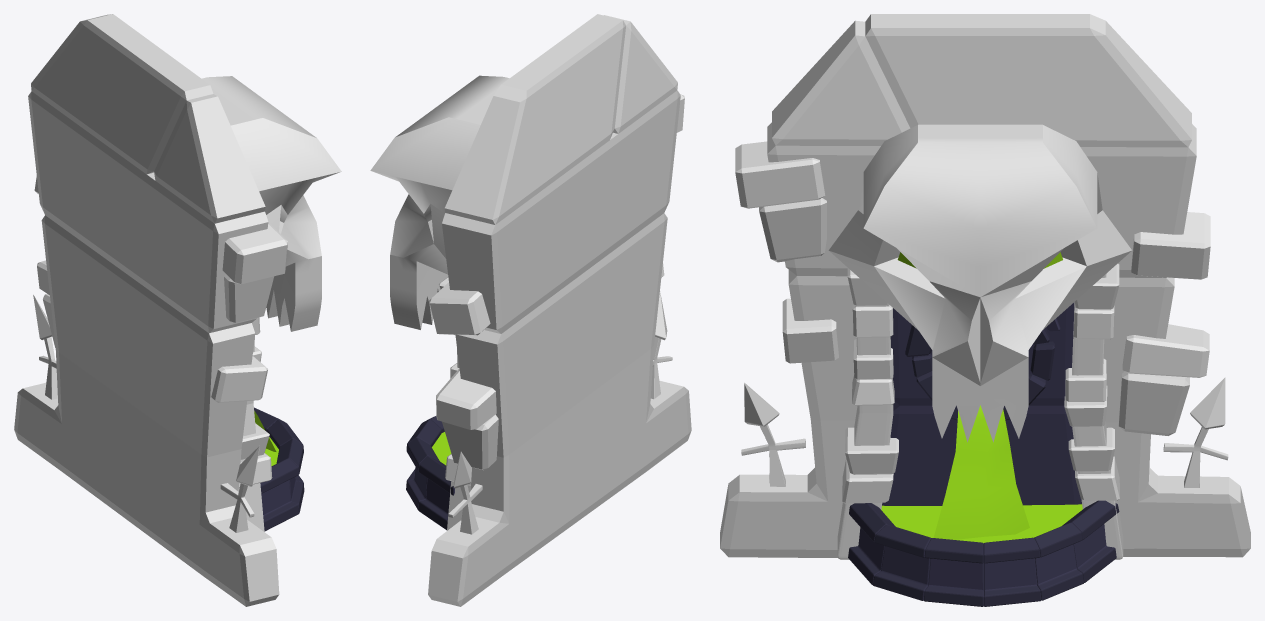
File: waterfall.fbx
The picture shows the model from 3 angles, left to right: view 1: azimuth 30°, elevation 25°; view 2: azimuth 150°, elevation 25°; view 3: azimuth 270°, elevation 25°; orthographic projection. The views are drawn at different scales.
Visible parts, largest first — view 1: Cube.044, Cube.045, Cube.046, Cube.061, Cube.047, Cube.038, Cube.040, Vert.010, Cube.039, Cube.048, Cube.050, Cube.052 (+4 smaller); view 2: Cube.044, Cube.045, Cube.046, Cube.061, Cube.047, Cube.043, Cube.041, Cube.042, Vert.015, Cube.050, Vert.014, Cube.048 (+2 smaller); view 3: Cube.061, Cube.044, Cube.046, Cube.045, Cube.051, Cube.047, Vert.016, Cube.064, Cube.038, Cube.060, Cube.041, Cube.042 (+21 smaller).
Boxes of the visible parts, <box> form: Cube.044: <box>14,215,279,606</box>; Cube.045: <box>28,91,268,333</box>; Cube.046: <box>31,14,213,174</box>; Cube.061: <box>202,76,341,331</box>; Cube.047: <box>154,94,265,223</box>; Cube.038: <box>222,222,287,284</box>; Cube.040: <box>211,356,267,402</box>; Vert.010: <box>260,458,298,531</box>; Cube.039: <box>224,274,273,323</box>; Cube.048: <box>220,446,259,532</box>; Cube.050: <box>33,295,57,399</box>; Cube.052: <box>238,337,264,531</box>; Cube.044: <box>428,213,691,606</box>; Cube.045: <box>442,90,680,333</box>; Cube.046: <box>444,14,625,224</box>; Cube.061: <box>370,75,509,329</box>; Cube.047: <box>604,15,677,133</box>; Cube.043: <box>436,368,496,429</box>; Cube.041: <box>429,282,490,335</box>; Cube.042: <box>442,414,498,470</box>; Vert.015: <box>418,456,454,530</box>; Cube.050: <box>448,451,482,534</box>; Vert.014: <box>406,437,439,510</box>; Cube.048: <box>650,291,672,399</box>; Cube.061: <box>828,124,1131,442</box>; Cube.044: <box>720,270,1250,557</box>; Cube.046: <box>865,14,1191,147</box>; Cube.045: <box>767,122,1196,277</box>; Cube.051: <box>882,401,1081,505</box>; Cube.047: <box>772,20,910,145</box>; Vert.016: <box>933,405,1029,539</box>; Cube.064: <box>1064,263,1119,500</box>; Cube.038: <box>735,141,825,208</box>; Cube.060: <box>890,302,1074,405</box>; Cube.041: <box>1131,212,1210,279</box>; Cube.042: <box>1118,371,1189,435</box>.
Bounding box in the file's own units: 841 × 2005 × 1823.
